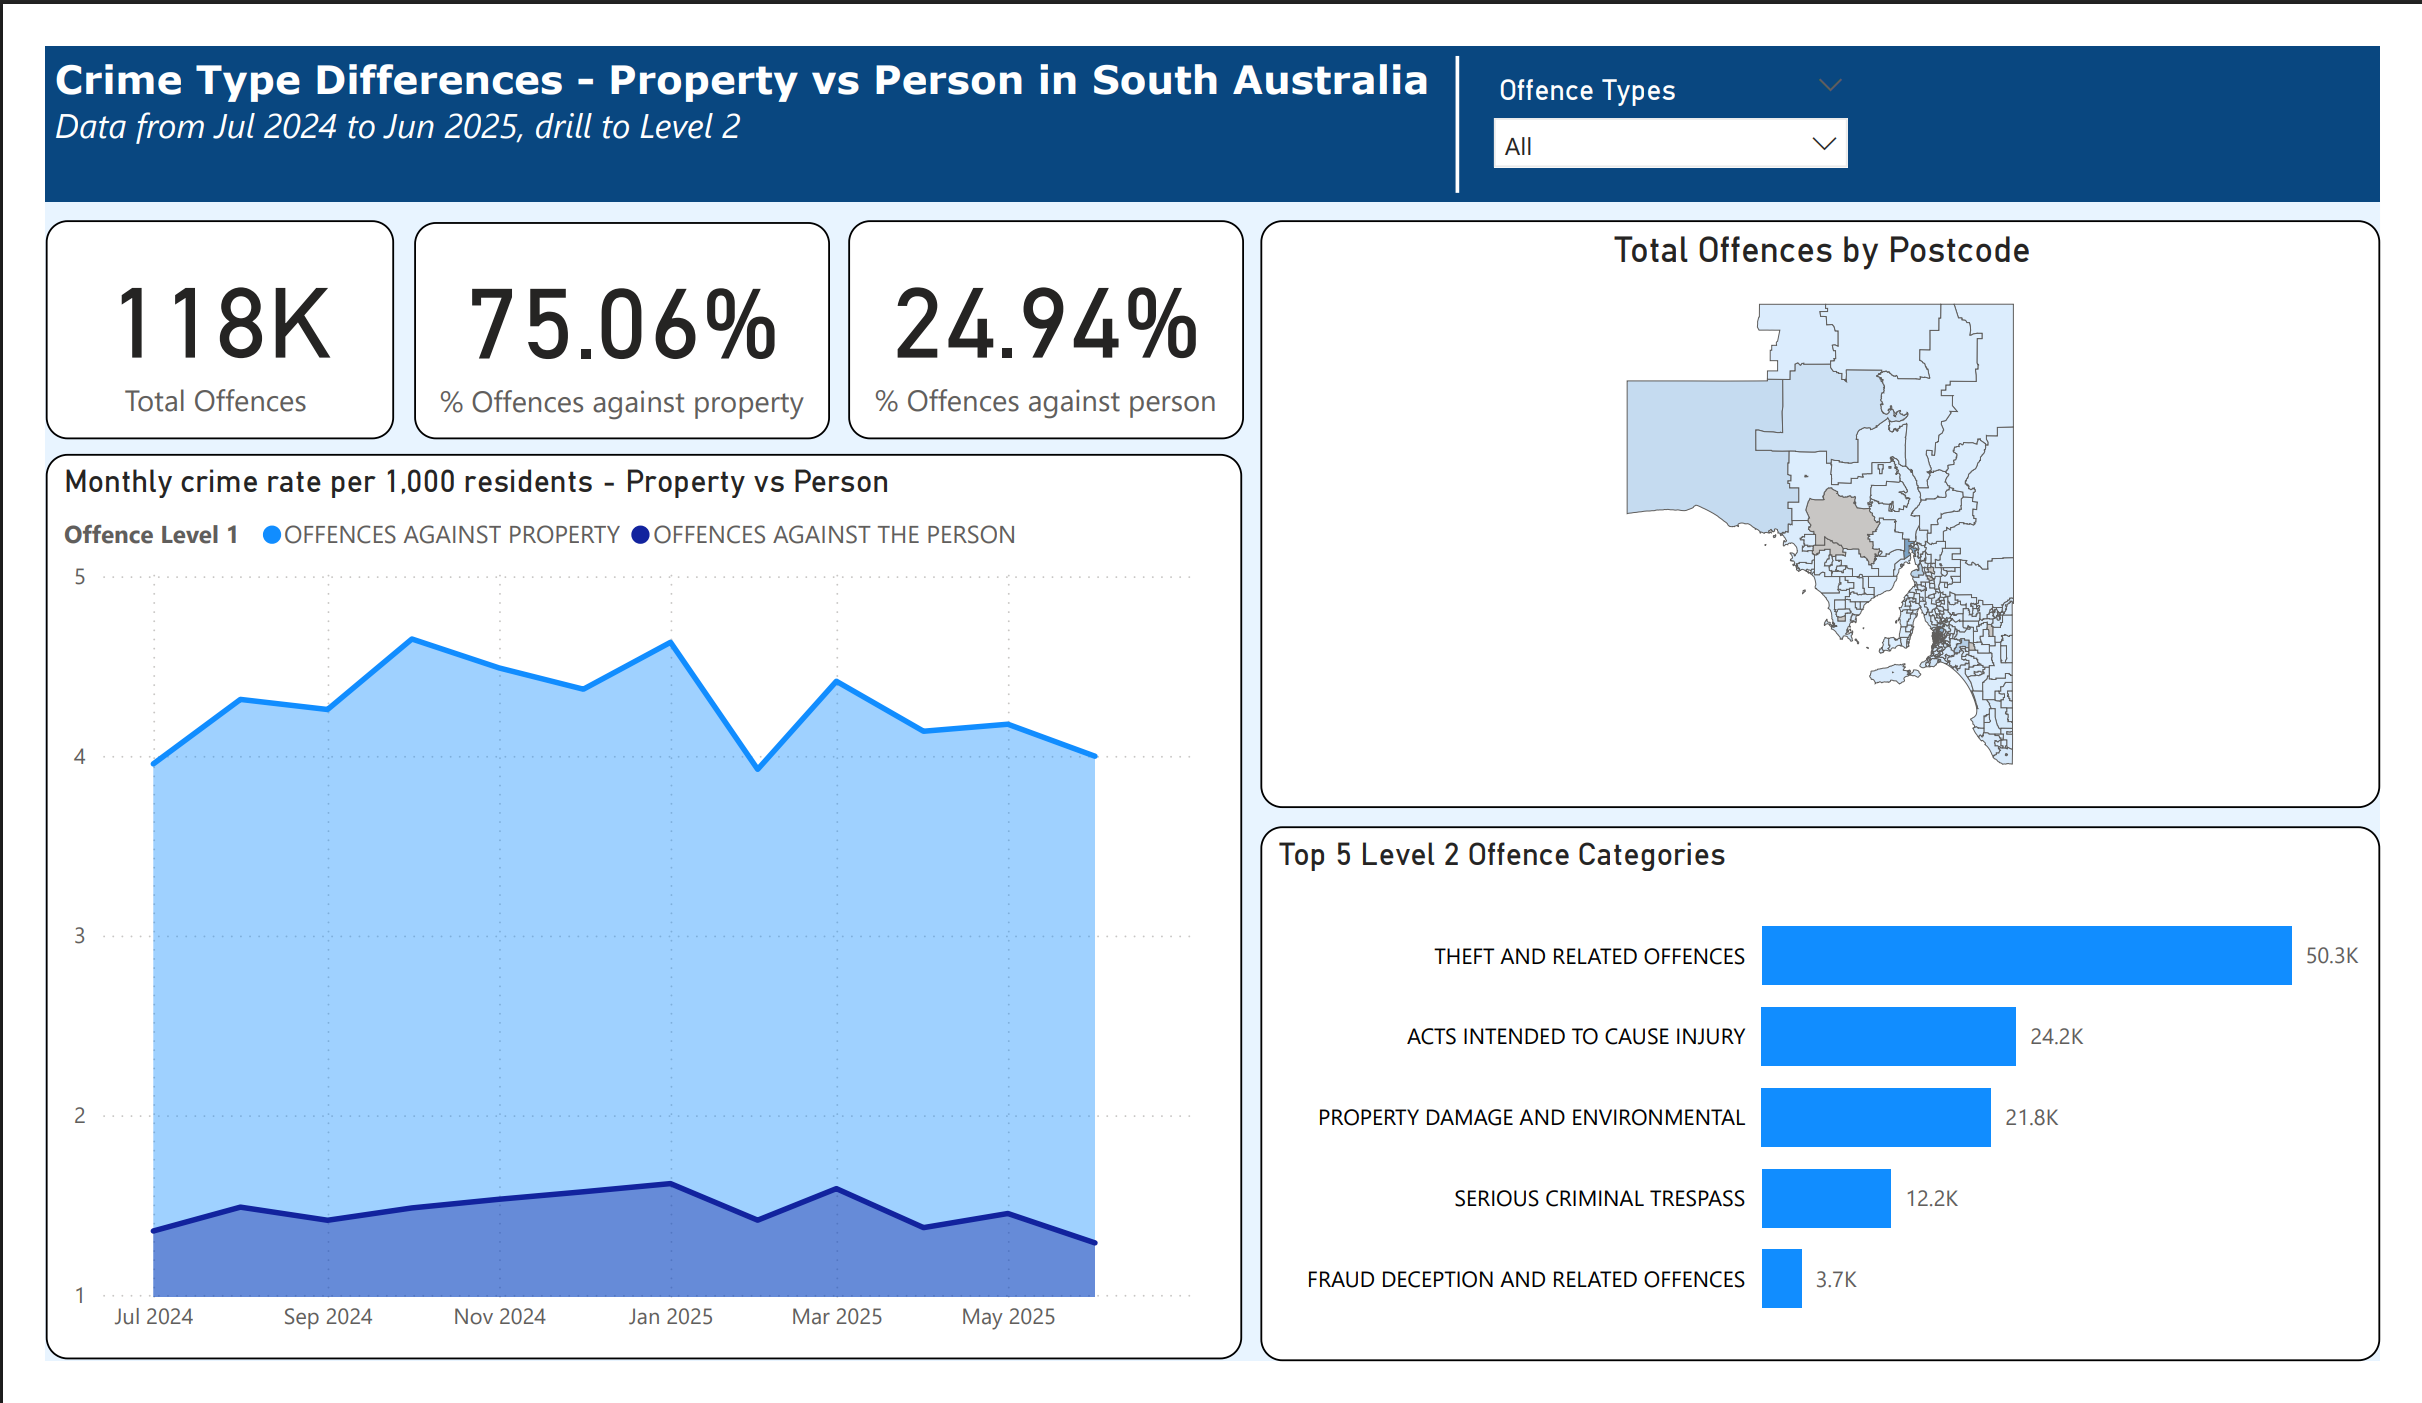

This screenshot's page, from the dashboard's own definition file:
{"tool":"powerbi","page":{"name":"Page 1","canvas":[1280,720],"ordinal":0},"visuals":[{"type":"textbox","box":[0,0,1280.2,85.2],"z":0},{"type":"areaChart","title":"Monthly crime rate per 1,000 residents - Property vs Person","fields":{"Category":["data_sa_crime_q1_q2_q3_q4_2024-25-publish.Reported Date.Variation.Date Hierarchy.Year","data_sa_crime_q1_q2_q3_q4_2024-25-publish.Reported Date.Variation.Date Hierarchy.Month"],"Series":["data_sa_crime_2024-25-publish.Offence Level 1 Description"],"Y":["2021Census_G01_SA_POA.Rate per 1k"]},"box":[0,223.4,656.3,495.7],"z":1000},{"type":"card","fields":{"Values":["Sum(data_sa_crime_2024-25-publish.Offence count)"]},"box":[0,95.1,191.4,119.8],"z":2000},{"type":"card","fields":{"Values":["data_sa_crime_2024-25-publish.% property"]},"box":[202.5,96.3,227.2,118.5],"z":3000},{"type":"shapeMap","title":"Total Offences by Postcode","fields":{"Category":["data_sa_crime_q1_q2_q3_q4_2024-25-publish.Postcode - Incident"],"Value":["Sum(data_sa_crime_2024-25-publish.Offence count)"]},"box":[665.6,95.4,614.4,321.2],"z":4000},{"type":"clusteredBarChart","title":"Top 5 Level 2 Offence Categories","fields":{"Y":["Sum(data_sa_crime_2024-25-publish.Offence count)"],"Category":["data_sa_crime_2024-25-publish.Offence Level 2 Description"]},"box":[666.1,427.1,613.9,292.5],"z":5000},{"type":"slicer","fields":{"Values":["data_sa_crime_2024-25-publish.Offence Level 1 Description"]},"box":[784,8.6,213.6,67.9],"z":6000},{"type":"shape","box":[716,4.9,116,75.3],"z":7000},{"type":"card","fields":{"Values":["data_sa_crime_2024-25-publish.% person"]},"box":[439.5,95.1,217.3,119.8],"z":9000}]}

Visuals, with their boxes in screenshot pixels (x1, y1, x2, y2), scaled from the page's 1280x720 canvas onto the 2422x1403 screenshot:
textbox: x1=0 y1=0 x2=2421 y2=166
"Monthly crime rate per 1,000 residents - Property vs Person" areaChart: x1=0 y1=435 x2=1242 y2=1401
card - Sum(data_sa_crime_2024-25-publish.Offence count): x1=0 y1=185 x2=362 y2=419
card - data_sa_crime_2024-25-publish.% property: x1=383 y1=188 x2=813 y2=419
"Total Offences by Postcode" shapeMap: x1=1259 y1=186 x2=2421 y2=812
"Top 5 Level 2 Offence Categories" clusteredBarChart: x1=1260 y1=832 x2=2421 y2=1402
slicer - data_sa_crime_2024-25-publish.Offence Level 1 Description: x1=1483 y1=17 x2=1888 y2=149
shape: x1=1355 y1=10 x2=1574 y2=156
card - data_sa_crime_2024-25-publish.% person: x1=832 y1=185 x2=1243 y2=419
